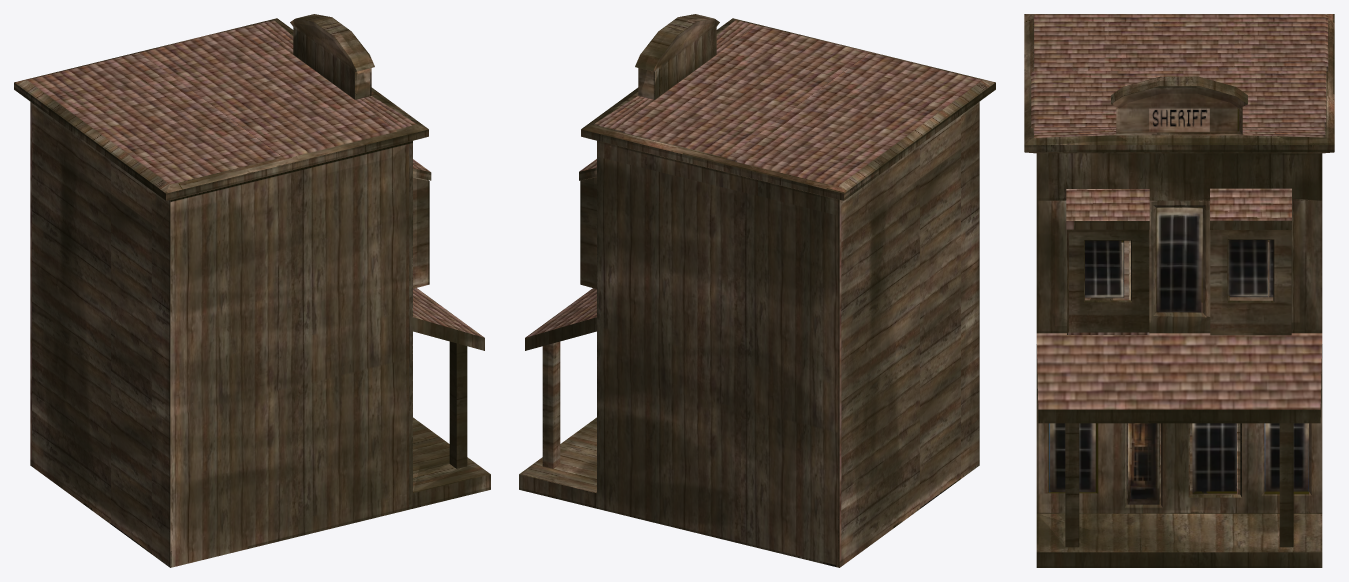
Rendered from sheriff.fbx.
The picture shows the model from 3 angles, left to right: view 1: azimuth 30°, elevation 25°; view 2: azimuth 150°, elevation 25°; view 3: azimuth 270°, elevation 25°; orthographic projection. The views are drawn at different scales.
Parts seen in each view (by area): view 1: Cube; view 2: Cube; view 3: Cube.
Part boxes in pixels (bbox=[...]): Cube: bbox=[14, 14, 490, 567]; Cube: bbox=[519, 14, 995, 567]; Cube: bbox=[1024, 14, 1334, 567].
Size of the model in its own units: 1094 by 1369 by 870.
1 material, 1 textured.
